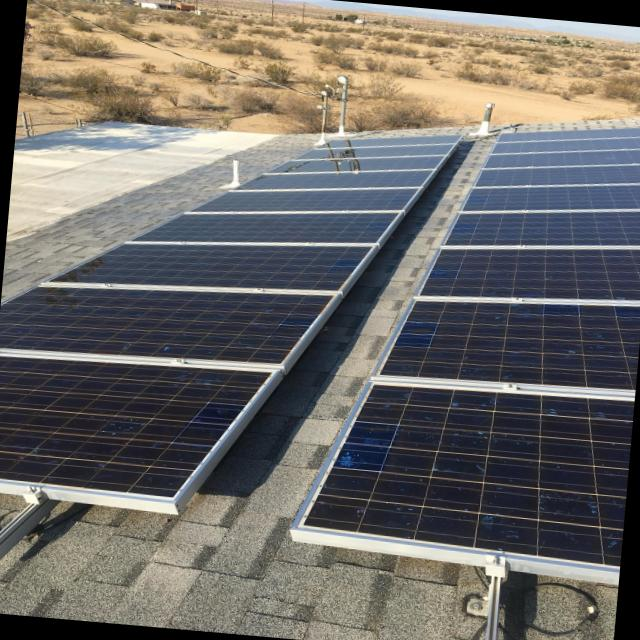no faulty: (301, 210, 640, 564), (0, 243, 377, 499)
